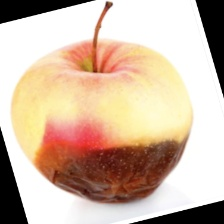apple: (0, 12, 191, 203)
